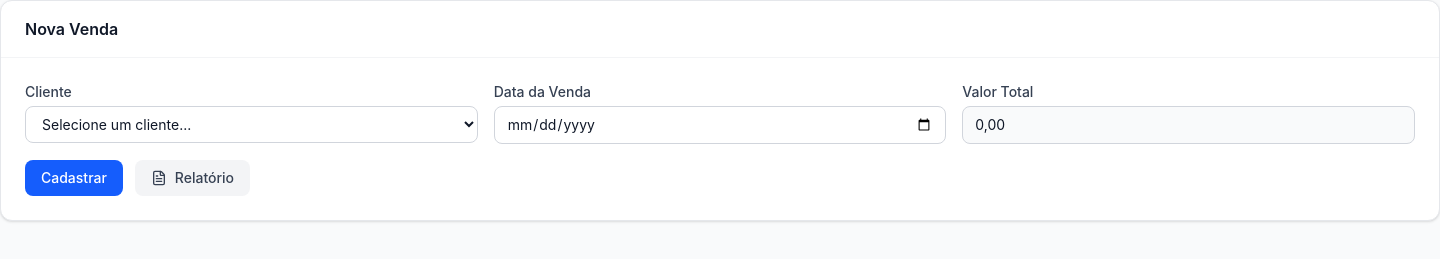
VendaForm › should require cliente and data
Click the button "Cadastrar" at (74, 178), box [25,160,123,196]
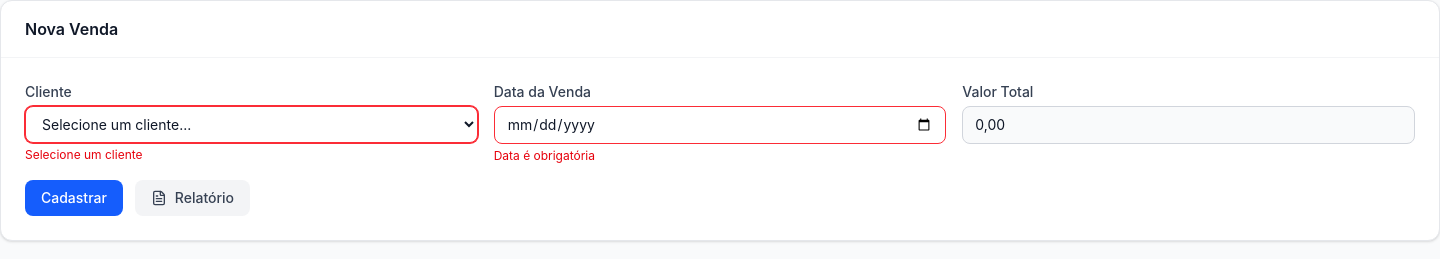
Expected: the text "Selecione um cliente" is shown, [25,147,143,162]
Expected: the text "Data é obrigatória" is shown, [494,148,595,163]
